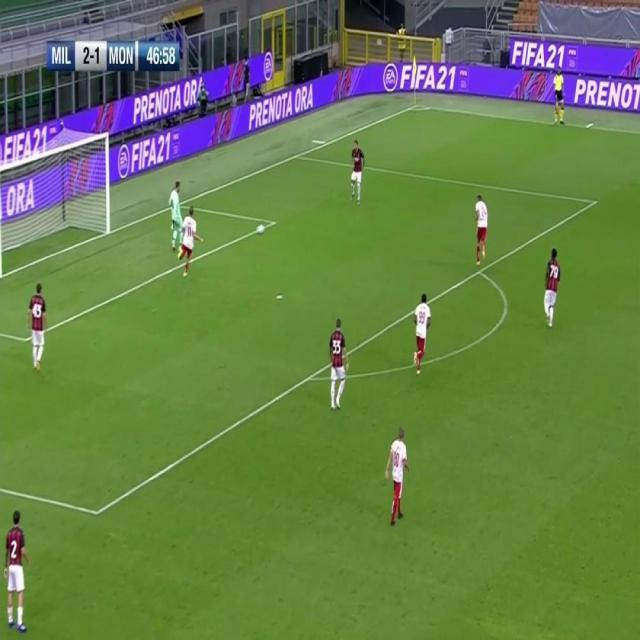ball: (256, 222, 265, 235)
goalkeeper: (169, 178, 183, 255)
player: (3, 506, 31, 634), (383, 427, 411, 529), (27, 282, 49, 379), (328, 316, 350, 413), (411, 290, 432, 377), (178, 206, 203, 277), (542, 245, 562, 330), (348, 137, 365, 208), (473, 192, 489, 266)
referee: (552, 64, 566, 127)
